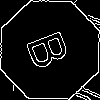B: (25, 25, 80, 72)
